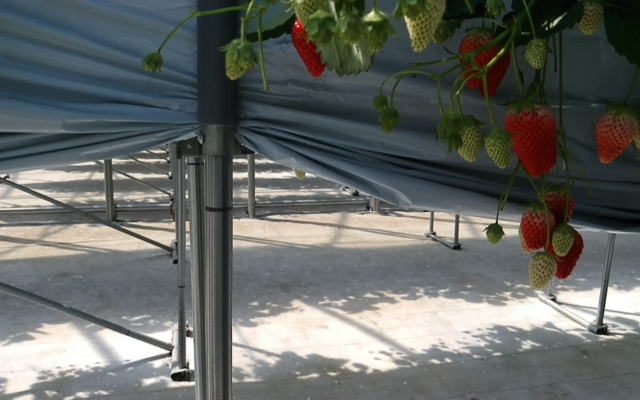GreenStrawberry: (400, 1, 453, 56), (294, 1, 346, 49), (445, 113, 486, 164), (355, 8, 393, 55), (222, 37, 258, 82), (568, 1, 608, 36), (483, 127, 515, 170), (527, 251, 558, 293), (522, 36, 547, 71), (551, 223, 575, 258), (484, 222, 506, 245)
MatureStrawberry: (505, 95, 561, 180), (457, 28, 514, 103), (289, 13, 335, 79), (593, 102, 640, 166), (544, 222, 584, 282), (539, 183, 576, 236), (519, 203, 555, 250)
